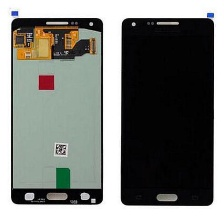phone: (8, 15, 105, 208), (119, 16, 215, 209)
